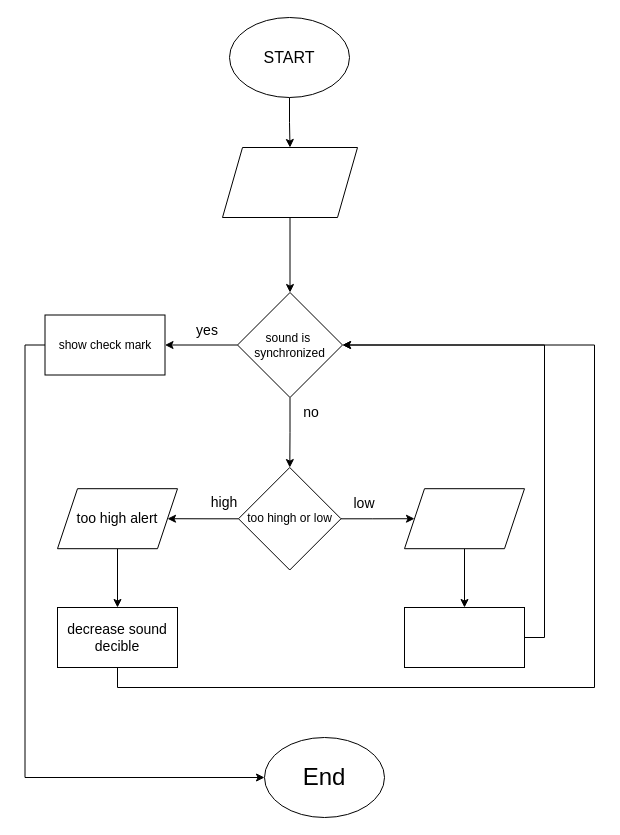
This 620x835 diagram has some shape labels left out. The centre of each missing label's shape, as x and y in pixels:
GUITAR STRING STRUM SOUND (1 / 2 / 3 / 4 / 5 / 6): point (290, 182)
increase sound decible: point (464, 637)
too low alert: point (464, 518)
